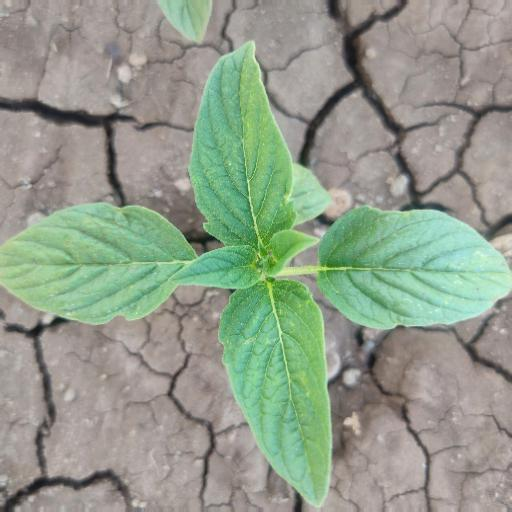crop: (10, 27, 512, 495)
